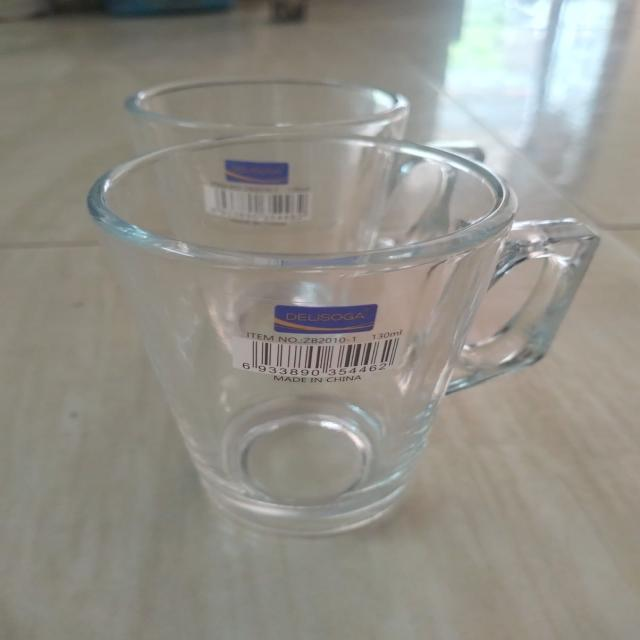glass-VX4N: (88, 132, 598, 532), (122, 71, 504, 391)
